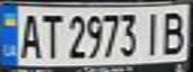2: (63, 11, 87, 60)
3: (118, 10, 142, 58)
7: (100, 11, 121, 60)
9: (84, 11, 106, 60)
A: (15, 10, 45, 60)
B: (157, 7, 190, 56)
I: (139, 8, 166, 57)
T: (36, 10, 63, 61)
